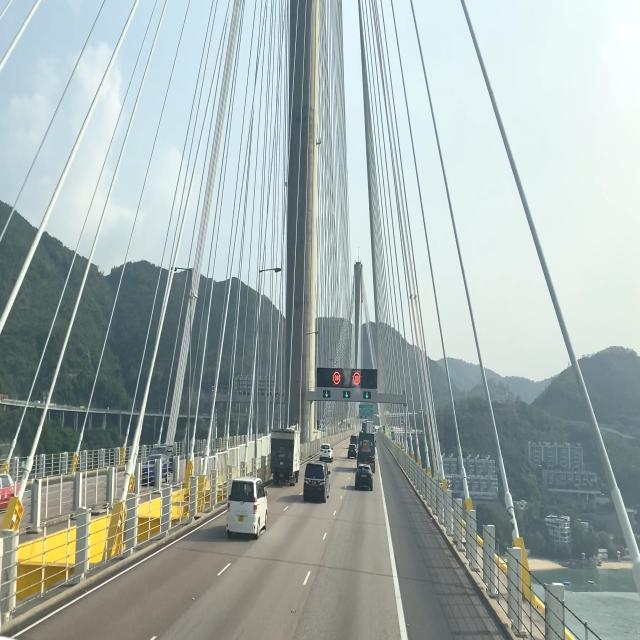Vehicle: (223, 476, 270, 546), (266, 424, 302, 488), (301, 459, 330, 505), (352, 462, 374, 492), (317, 442, 333, 464)
